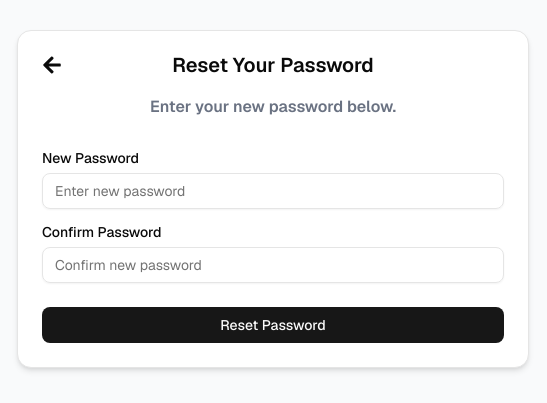
Test case: ResetPasswordForm › should show validation error when passwords do not match
Type "abc123" into the password field with placeholder "Enter new password" at (273, 191), box top-left (42, 173), bottom-right (504, 209)
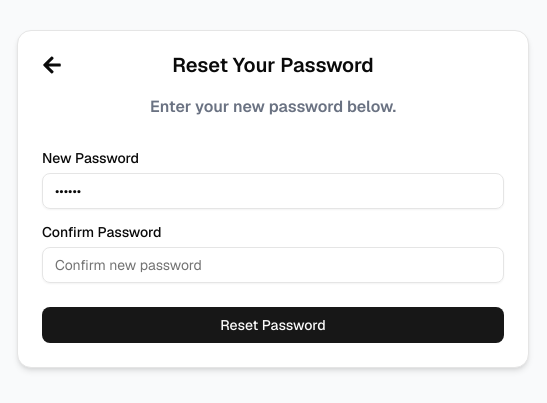
Type "different123" into the password field with placeholder "Confirm new password" at (273, 265), box top-left (42, 247), bottom-right (504, 283)
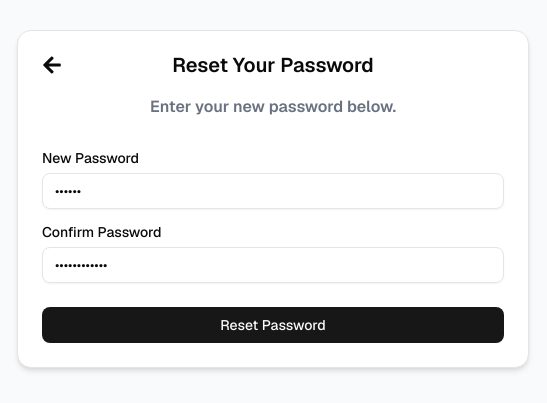
Click the button "Reset Password" at (273, 325), box top-left (42, 307), bottom-right (504, 343)
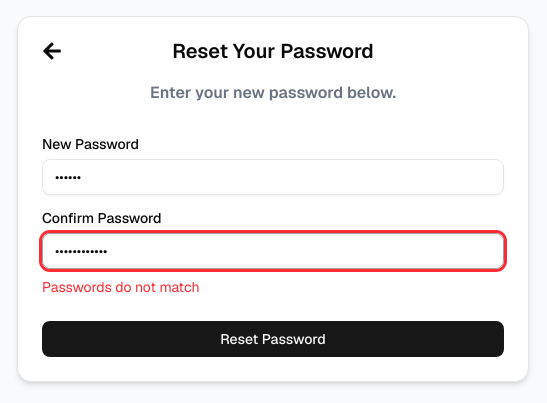
Result: the text "Passwords do not match" is shown at top-left (42, 278), bottom-right (200, 296)
